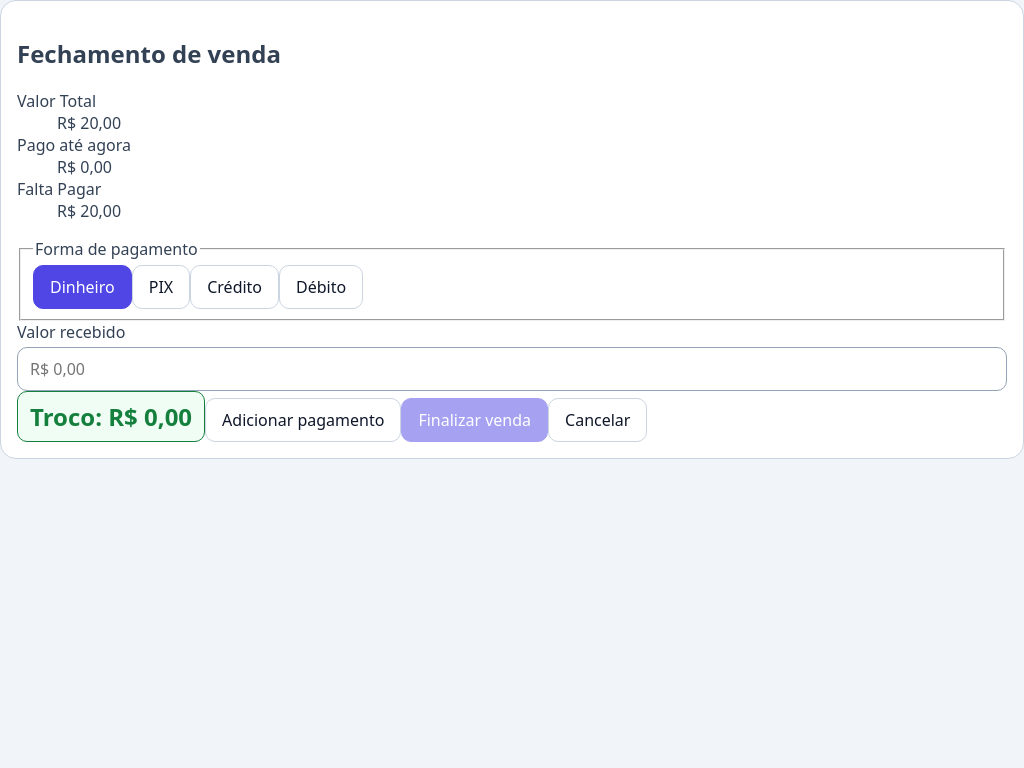
Scenario: PaymentModal › mostra Troco R$ 0,00 no valor exato (edge case US08)
The width and height of the screenshot is (1024, 768).
Type "2000" into the field labelled "Valor recebido" at (512, 369), box [17,347,1007,391]
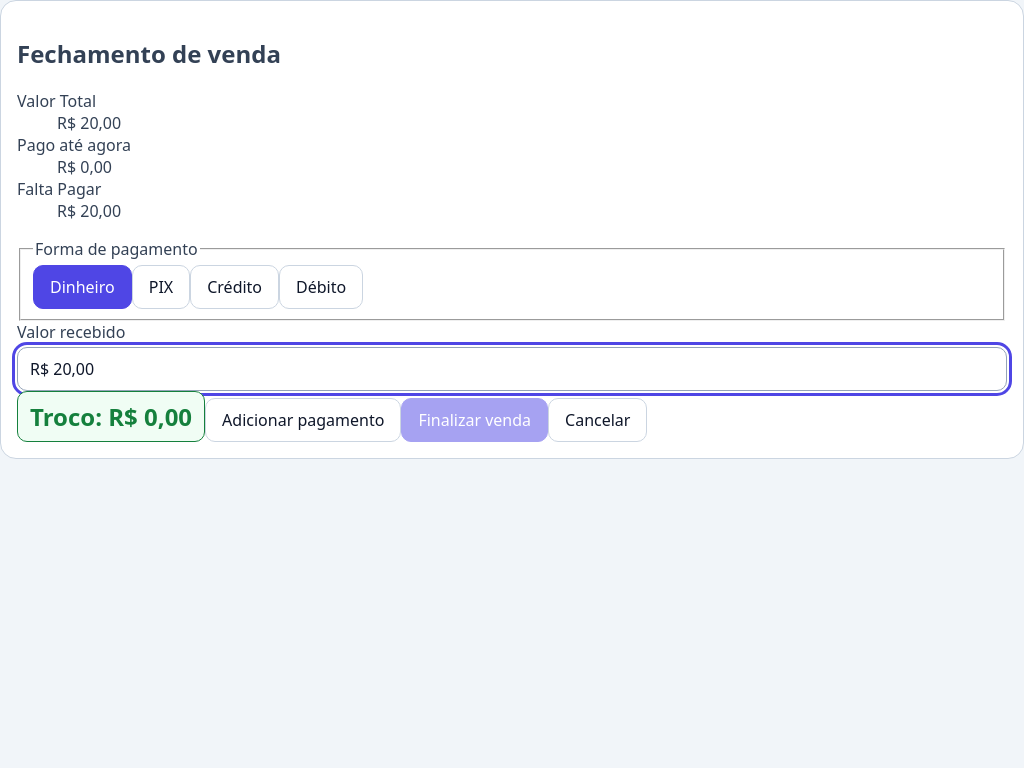
Expected: the message reads "Troco: R$ 0,00", [17,391,205,442]
Click the button "Adicionar pagamento" at (303, 420), box [205,398,401,442]
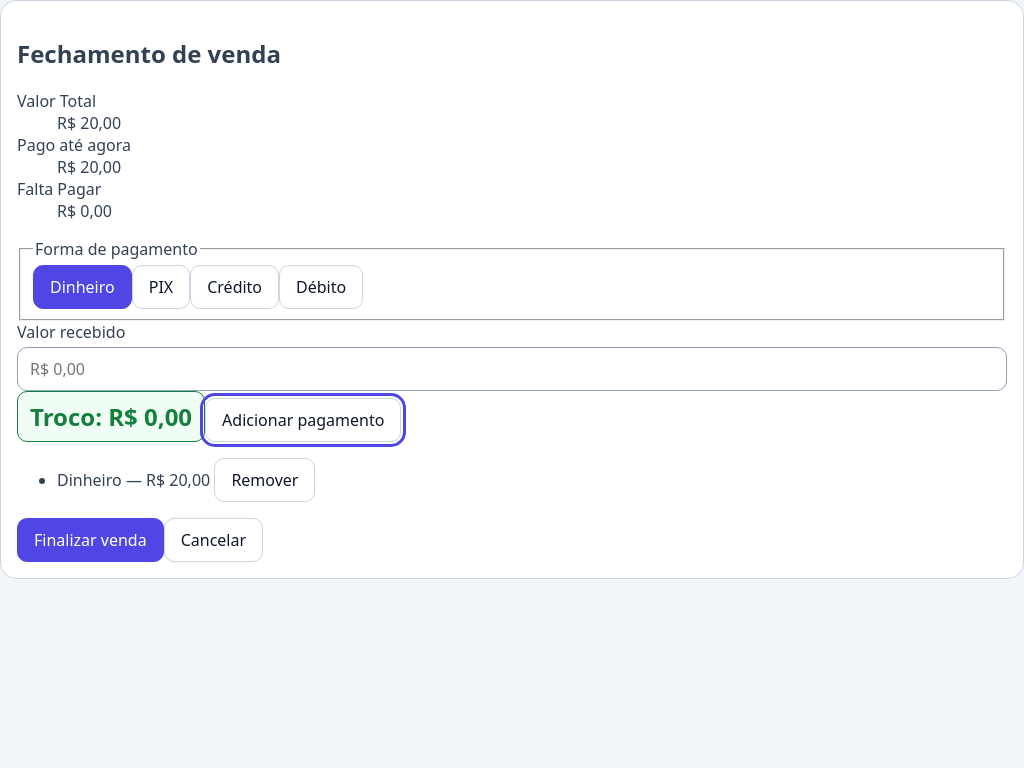
Expected: the message reads "Troco: R$ 0,00", [17,391,205,442]
Expected: the button "Finalizar venda" is enabled, [17,518,164,562]
